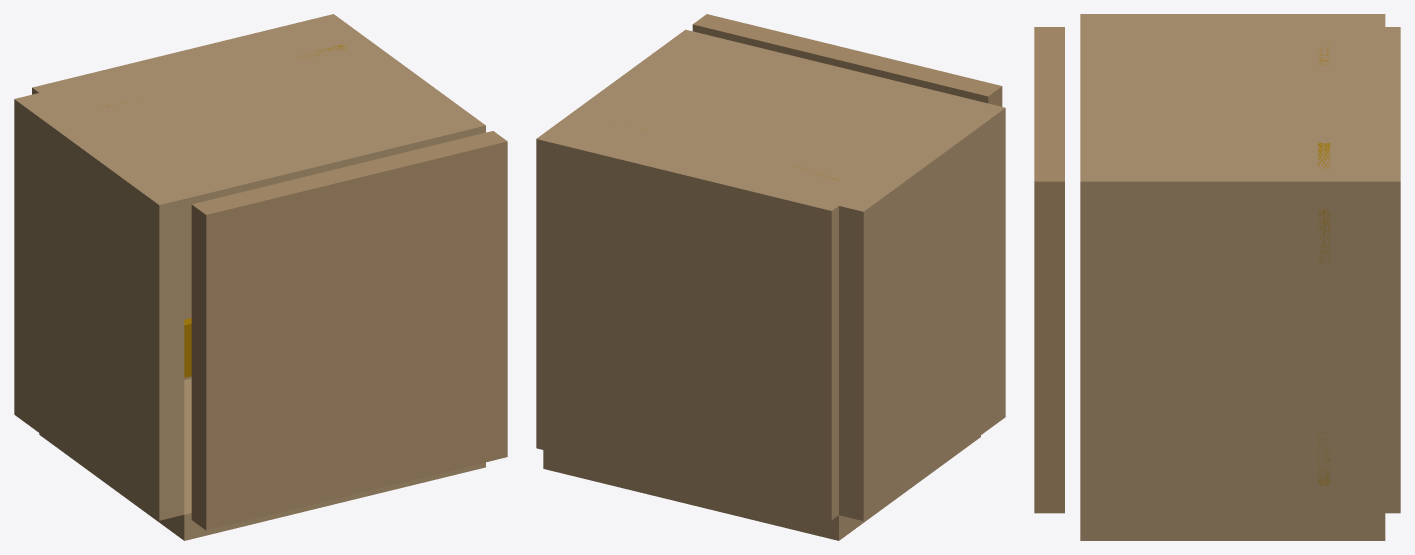
The model's file is wooden_crate_005_v1.glb.
The picture shows the model from 3 angles, left to right: view 1: azimuth 30°, elevation 25°; view 2: azimuth 150°, elevation 25°; view 3: azimuth 270°, elevation 25°; orthographic projection. The views are drawn at different scales.
Visible parts, largest first — view 1: top, side2, side3, base, side4, side1; view 2: base, side2, side3, top, side4, side1; view 3: side1, side3, top, base, side4, side2.
Part boxes in pixels (x1,y1,x2,y2): top: [191, 131, 507, 530]; side2: [14, 93, 184, 520]; side3: [40, 20, 485, 225]; base: [32, 14, 347, 379]; side4: [39, 378, 485, 540]; side1: [317, 20, 485, 138]; base: [536, 128, 845, 520]; side2: [839, 101, 1005, 520]; side3: [546, 30, 980, 204]; top: [692, 14, 1002, 106]; side4: [543, 435, 980, 540]; side1: [549, 30, 709, 136]; side1: [1080, 168, 1385, 513]; side3: [1080, 27, 1385, 209]; top: [1034, 27, 1064, 513]; base: [1370, 27, 1400, 513]; side4: [1080, 513, 1385, 540]; side2: [1080, 14, 1385, 26].
Bounding box in the file's own units: 65 × 65 × 60.
